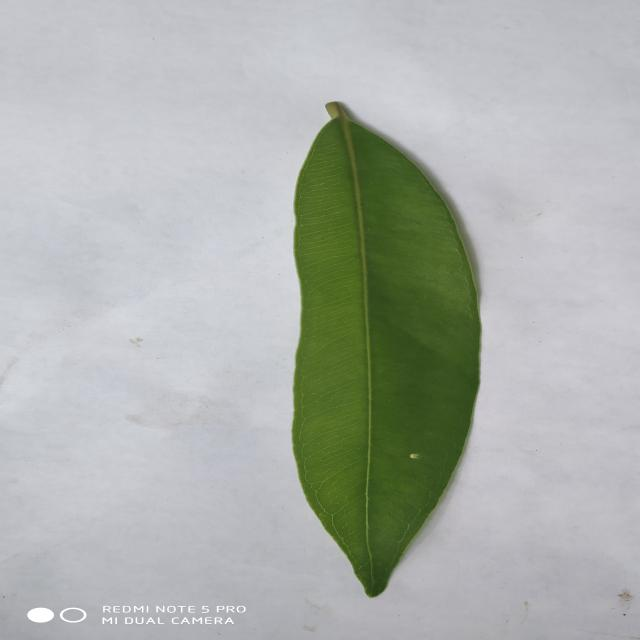nerale: (293, 102, 480, 596)
